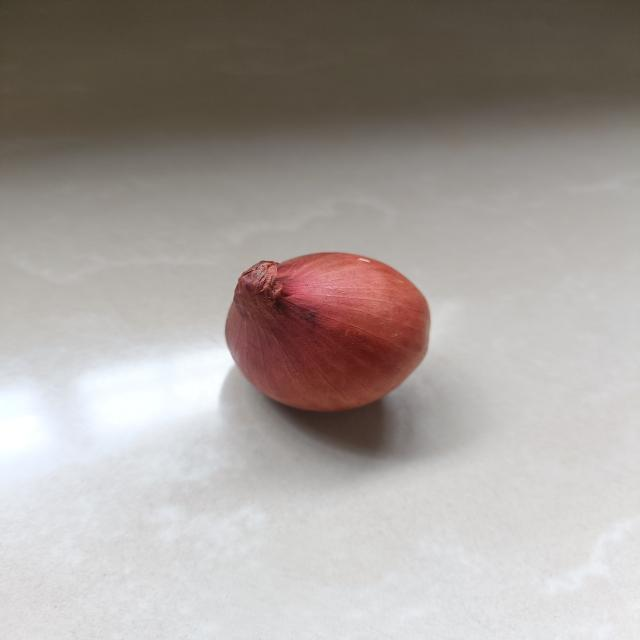onion: (222, 248, 434, 415)
